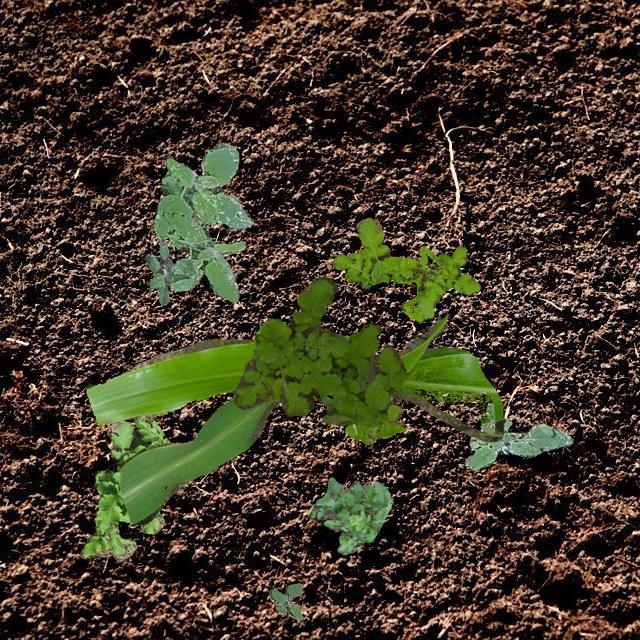crop: (85, 314, 502, 524)
weed: (234, 276, 406, 424), (152, 142, 252, 302), (332, 217, 478, 321), (80, 416, 168, 560), (464, 402, 572, 469), (306, 476, 391, 554), (344, 391, 406, 444), (144, 238, 174, 304), (268, 582, 302, 620)
